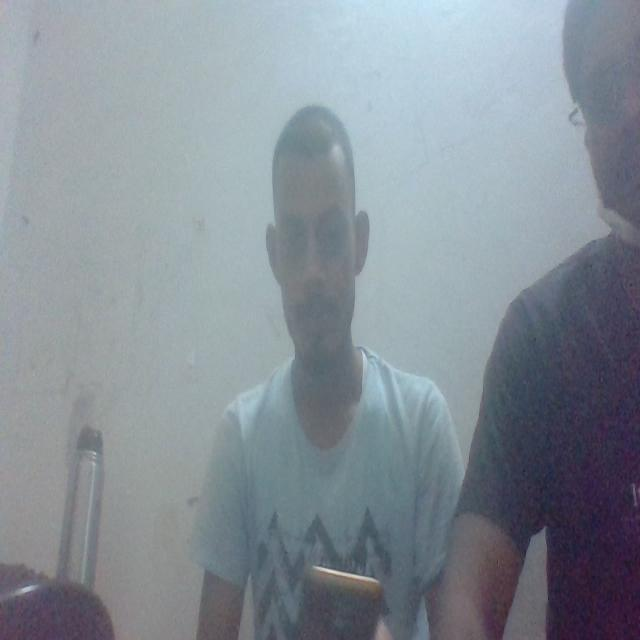Phone: (292, 562, 388, 640)
